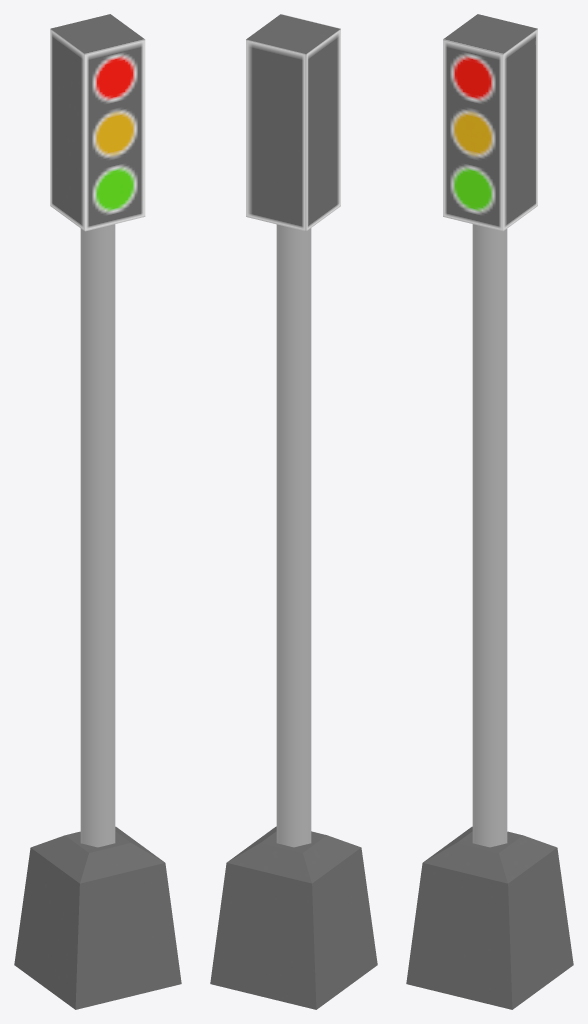
The model's file is TrafficLight.glb.
3 renders of one model, left to right at view 1: azimuth 30°, elevation 25°; view 2: azimuth 150°, elevation 25°; view 3: azimuth 330°, elevation 25°, orthographic.
Visible parts, largest first — view 1: traffic_lights; view 2: traffic_lights; view 3: traffic_lights.
Part boxes in pixels (x1,y1,x2,y2): traffic_lights: (14, 14, 181, 1009); traffic_lights: (210, 14, 377, 1009); traffic_lights: (406, 14, 573, 1009).
Bounding box in the file's own units: 0.1866 × 1.58 × 0.1866.
1 material, 1 textured.
